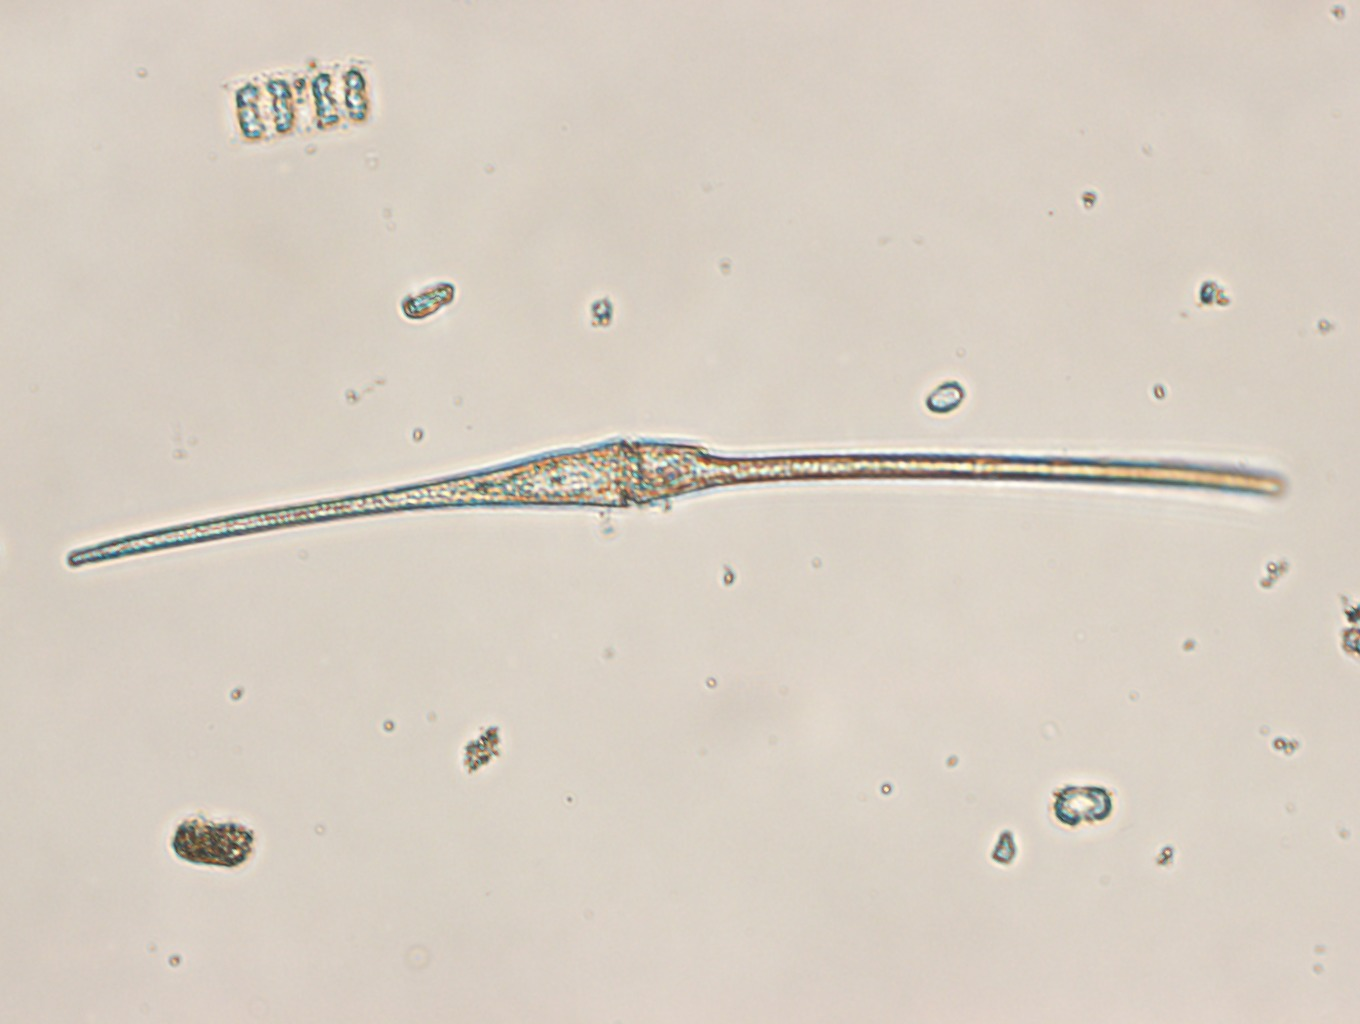ceratium fusus: (62, 436, 1286, 577)
skeletonema: (228, 59, 380, 145)
